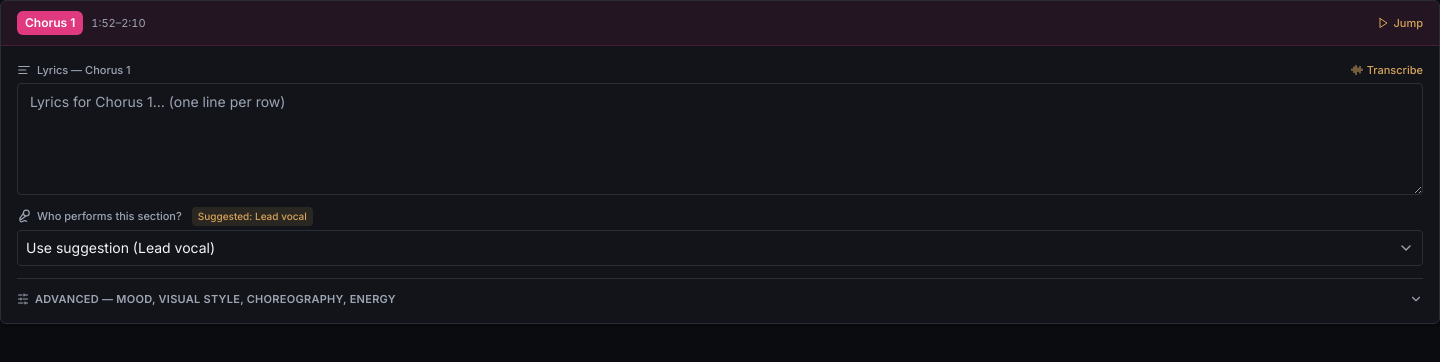
it: SectionEditor transcription › reports an instrumental section as empty rather than as an error
Click the button "Transcribe": (1387,70) [1351,62,1423,78]
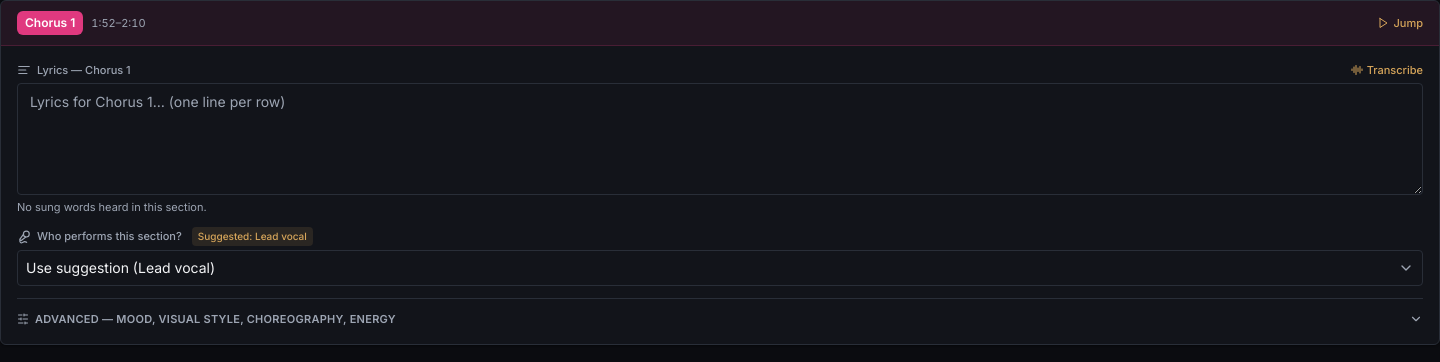
Now the text "No sung words heard in this section." is shown, box [17,200,207,214]
